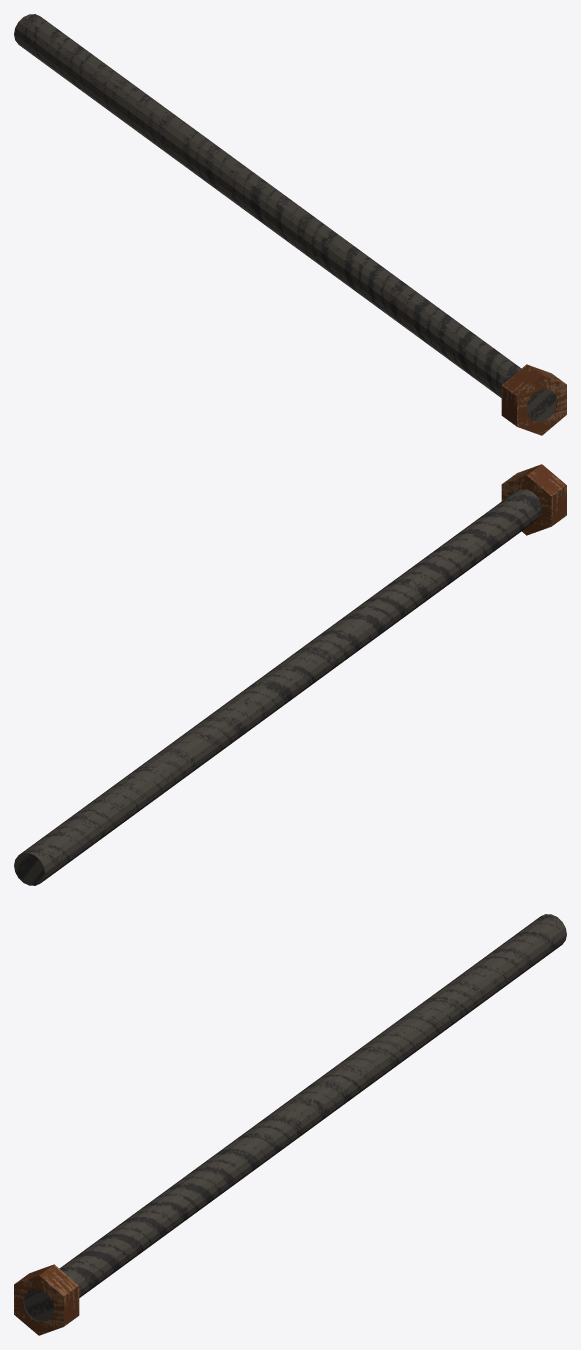
File: Bar with Nut.fbx
The picture shows the model from 3 angles, top to bottom: view 1: azimuth 30°, elevation 25°; view 2: azimuth 150°, elevation 25°; view 3: azimuth 330°, elevation 25°; orthographic projection.
Parts seen in each view (by area): view 1: Nut_Rod, Nut; view 2: Nut_Rod, Nut; view 3: Nut_Rod, Nut.
Boxes of the visible parts, x1=… form: Nut_Rod: x1=14, y1=14, x2=556, y2=421; Nut: x1=501, y1=364, x2=566, y2=435; Nut_Rod: x1=14, y1=489, x2=541, y2=885; Nut: x1=501, y1=464, x2=566, y2=535; Nut_Rod: x1=24, y1=914, x2=566, y2=1321; Nut: x1=14, y1=1264, x2=79, y2=1335.
Bounding box in the file's own units: 11.26 × 13 × 200.
